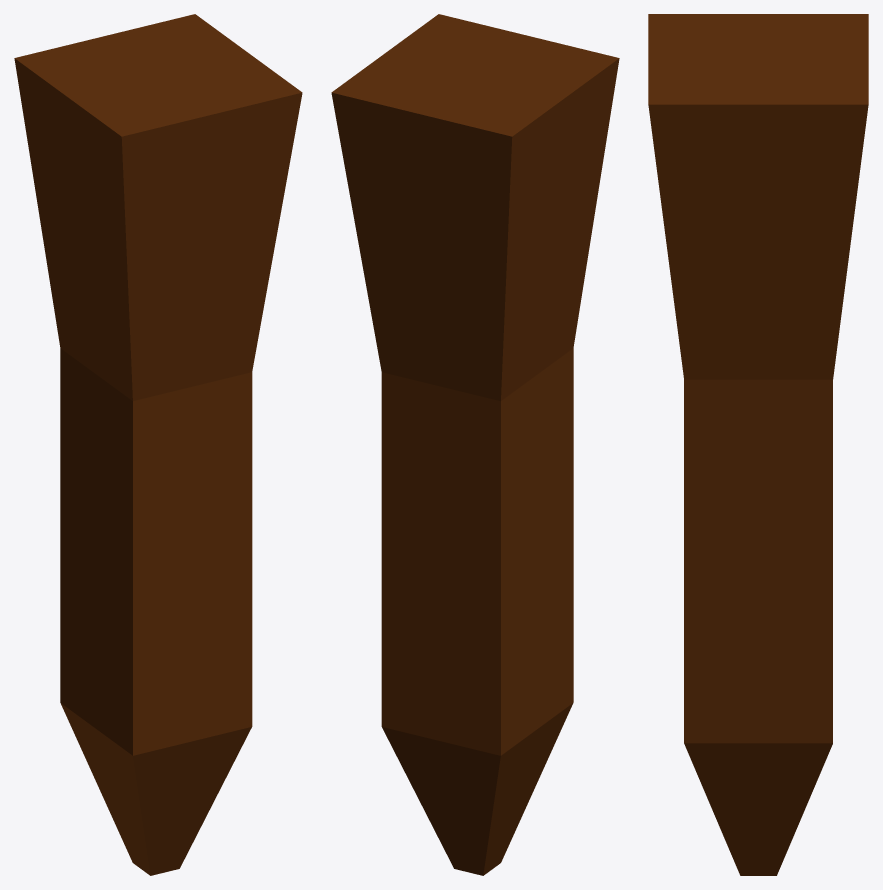
File: torch.fbx
3 views of the same model, side by side, from view 1: azimuth 30°, elevation 25°; view 2: azimuth 150°, elevation 25°; view 3: azimuth 270°, elevation 25° (orthographic). The views are drawn at different scales.
Parts seen in each view (by area): view 1: Cube; view 2: Cube; view 3: Cube.
Boxes of the visible parts, x1,y1,x2,y2 form: Cube: [14, 14, 302, 875]; Cube: [331, 14, 619, 875]; Cube: [648, 14, 868, 875].
Bounding box in the file's own units: 109 × 453 × 112.
